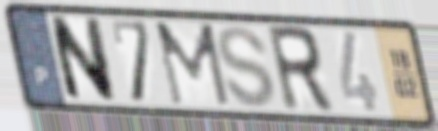4: (338, 28, 381, 116)
7: (109, 18, 152, 106)
M: (152, 19, 234, 109)
N: (45, 14, 119, 105)
R: (263, 23, 338, 116)
S: (214, 24, 278, 111)
